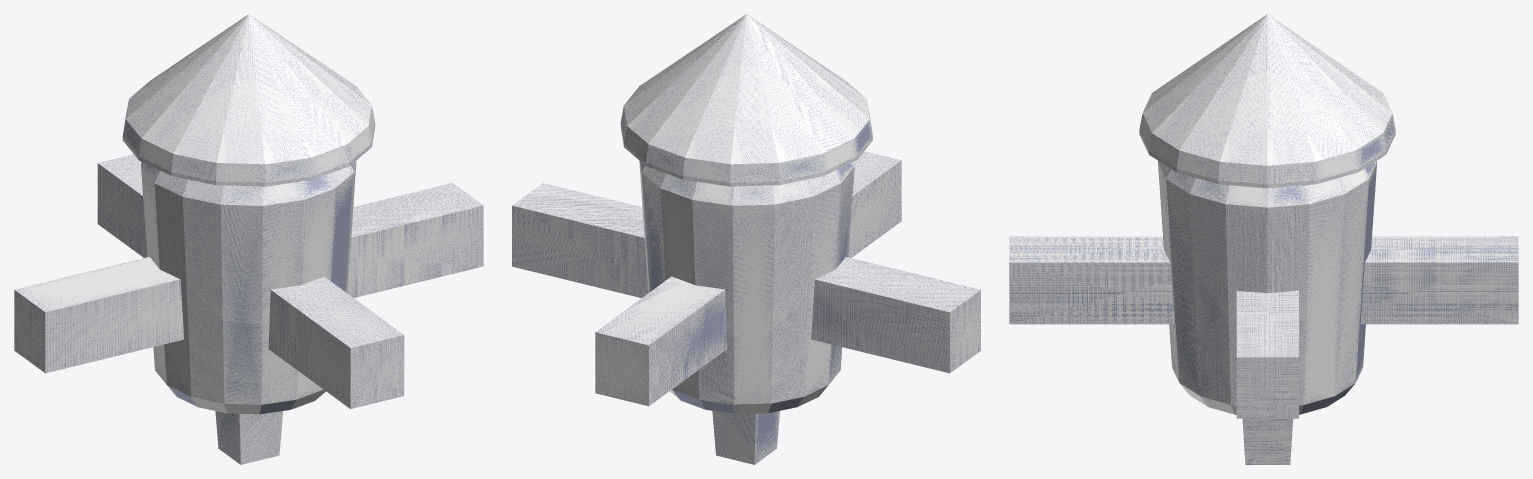
File: Silo.dae
3 views of the same model, side by side, from view 1: azimuth 30°, elevation 25°; view 2: azimuth 150°, elevation 25°; view 3: azimuth 270°, elevation 25° (orthographic).
Visible parts, largest first — view 1: siloCap, group_0; view 2: siloCap, group_0; view 3: siloCap, group_0.
Part boxes in pixels (<box>): siloCap: <box>122,14,375,414</box>; group_0: <box>14,154,483,464</box>; siloCap: <box>620,14,872,413</box>; group_0: <box>512,151,980,464</box>; siloCap: <box>1139,14,1395,414</box>; group_0: <box>1009,236,1518,464</box>.
Size of the model in its own units: 127 by 127 by 121.
